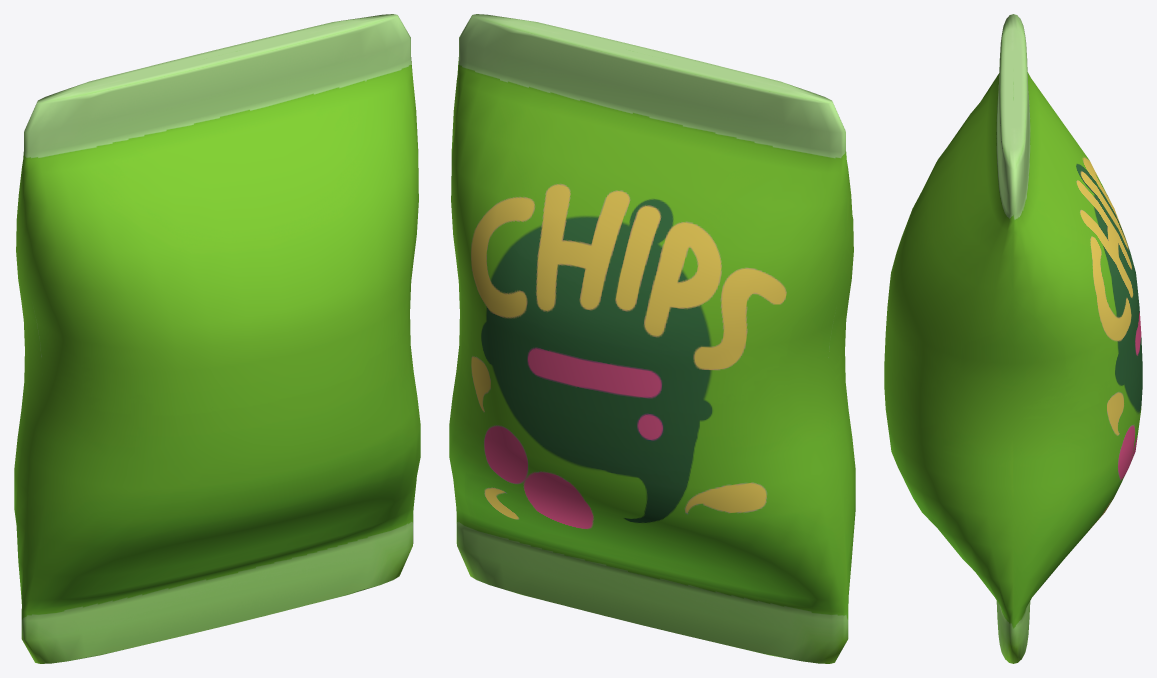
File: bimbim-001.fbx
The picture shows the model from 3 angles, left to right: view 1: azimuth 30°, elevation 25°; view 2: azimuth 150°, elevation 25°; view 3: azimuth 270°, elevation 25°; orthographic projection. The views are drawn at different scales.
Visible parts, largest first — view 1: pCube8; view 2: pCube8; view 3: pCube8.
Part boxes in pixels (<box>): pCube8: <box>14,14,420,663</box>; pCube8: <box>449,14,855,663</box>; pCube8: <box>884,14,1142,663</box>.
Bounding box in the file's own units: 98.34 × 135 × 63.69.
